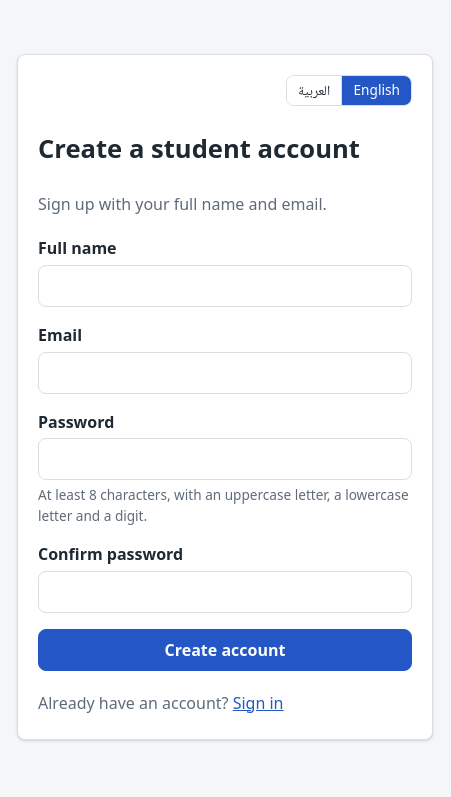
RegisterPage (English) › maps backend 400 errors to fullName, email, password (several messages) and confirmPassword
Type "Sara Ahmed" into the field labelled "Full name" at (225, 286), box [38,265,412,307]
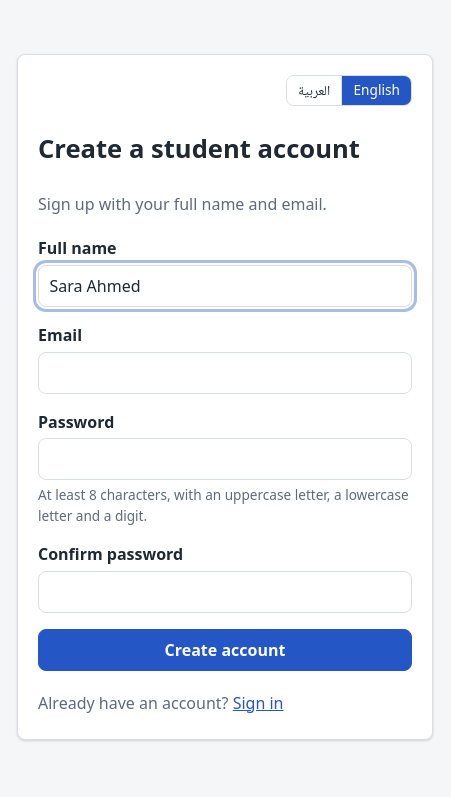
Type "sara@example.edu" into the field labelled "Email" at (225, 373), box [38,352,412,394]
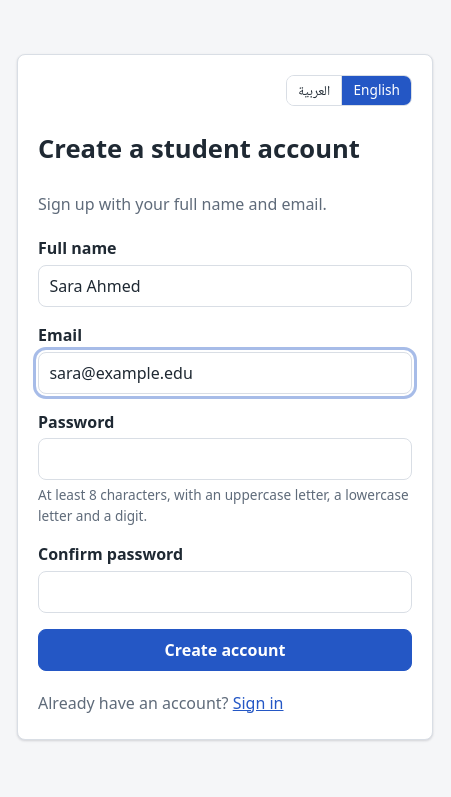
Type "Example1pass" into the password field labelled "Password" at (225, 459), box [38,438,412,480]
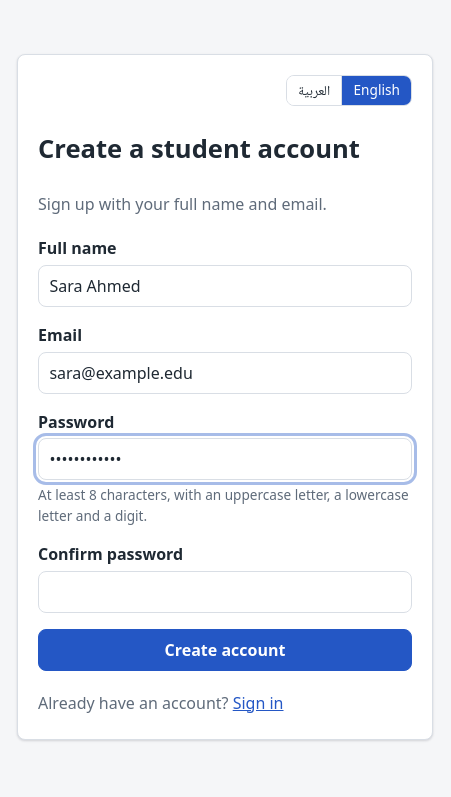
Type "Example1pass" into the password field labelled "Confirm password" at (225, 592), box [38,571,412,613]
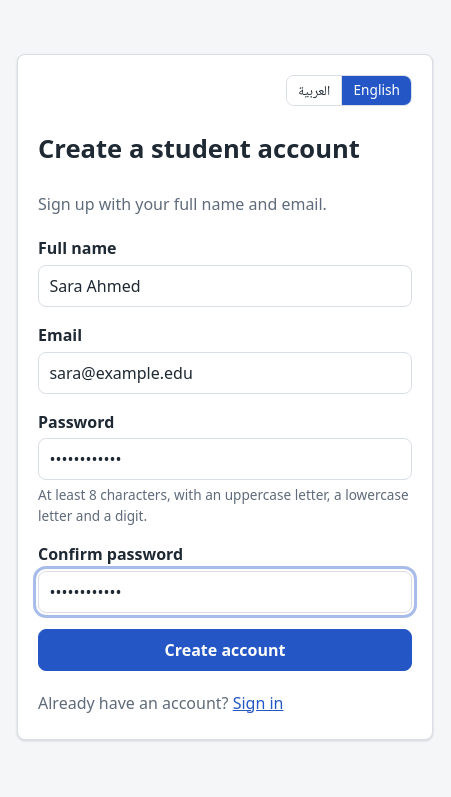
Click the button "Create account" at (225, 650), box [38,629,412,671]
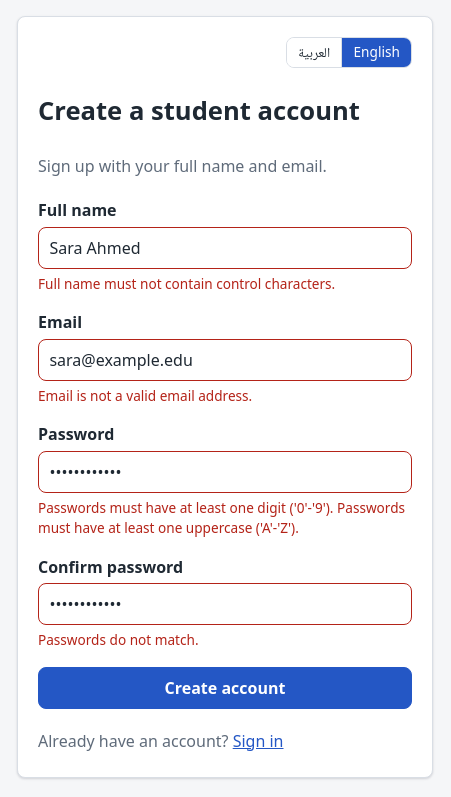
Expected: the text "Full name must not contain control characters." is shown, [38,274,335,293]
Expected: the text "Email is not a valid email address." is shown, [38,386,252,405]
